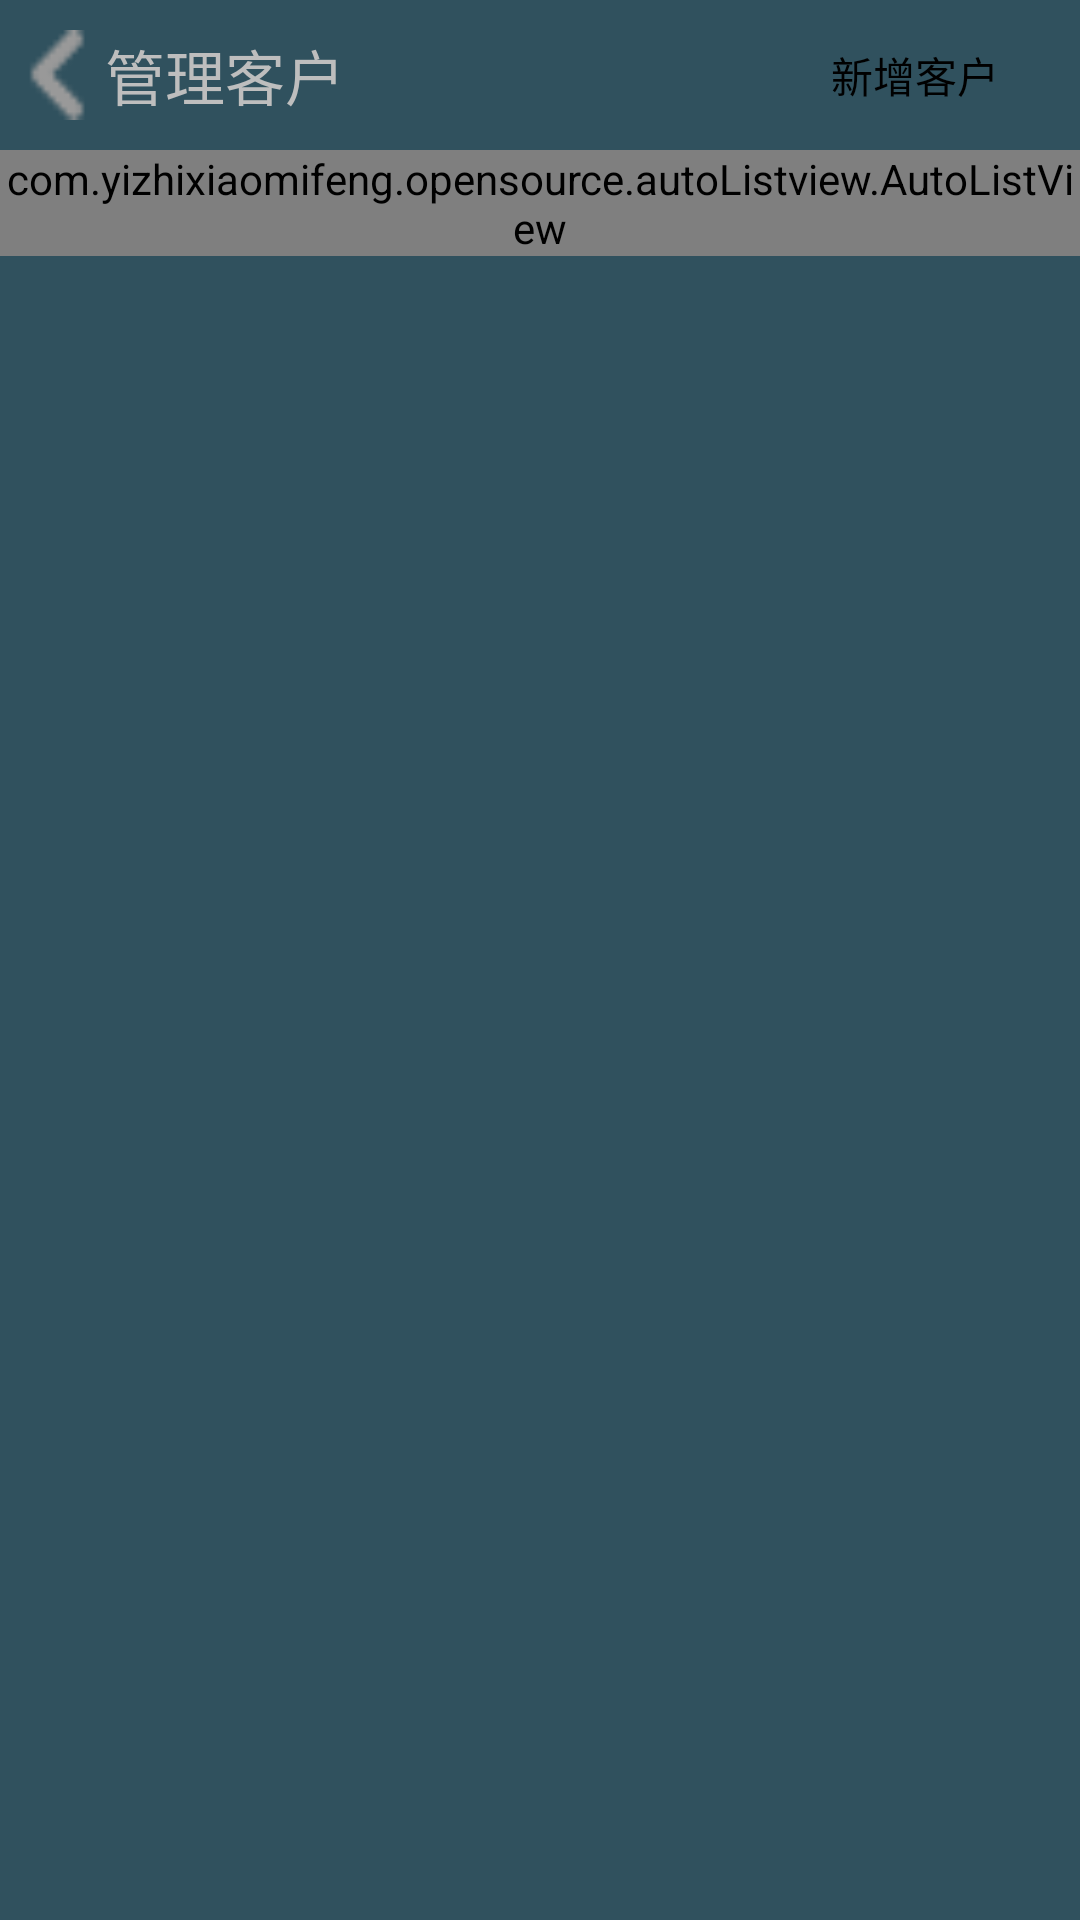

Icons on this 1080 × 1920 Android screen, each with its box as (x1, y1, x2, y2):
left: (31, 30, 84, 120)
